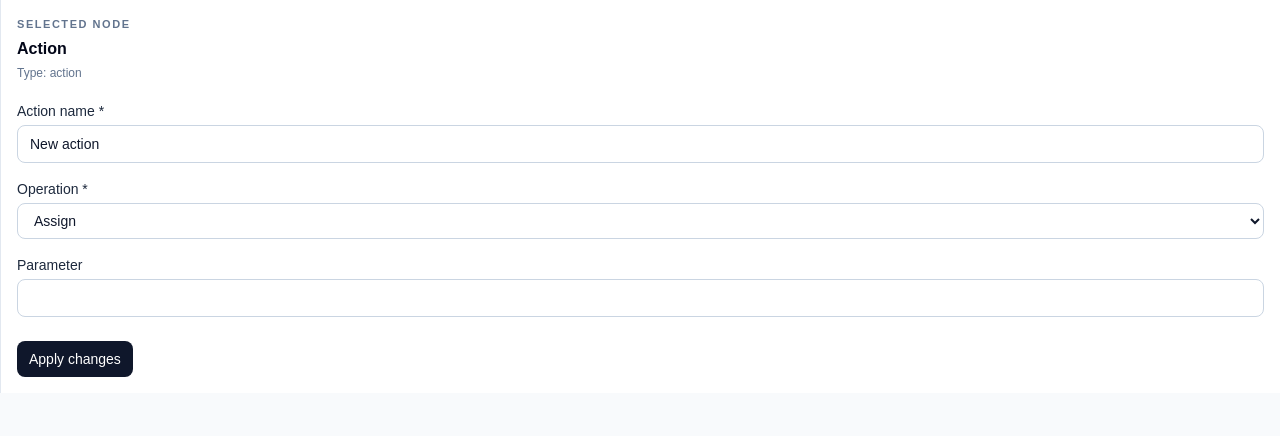
Test: NodeConfigurationPanel › shows validation errors
Clear the field labelled "Action name *": [640, 144] box [17,124,1264,162]
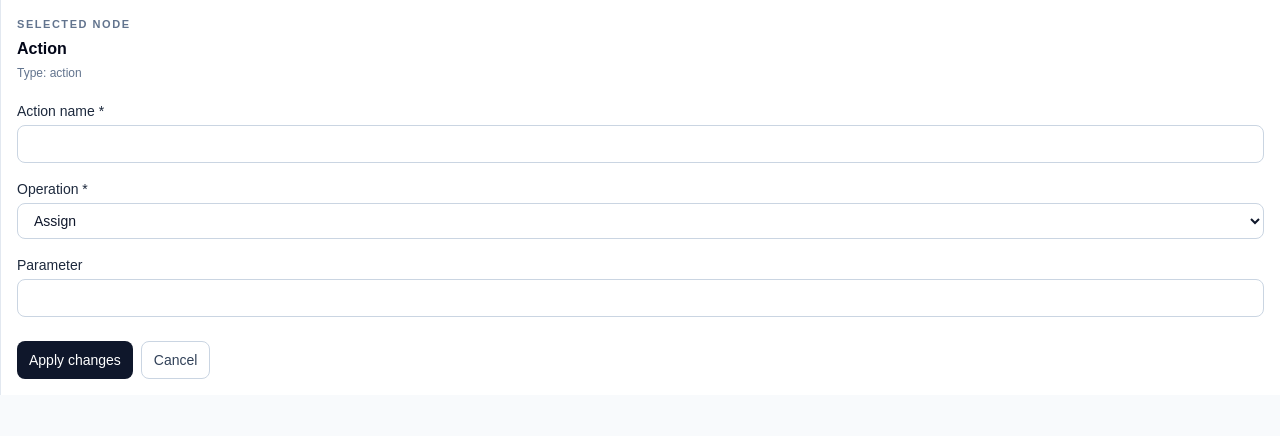
Click the button "Apply changes": [75, 360] box [17,340,133,378]
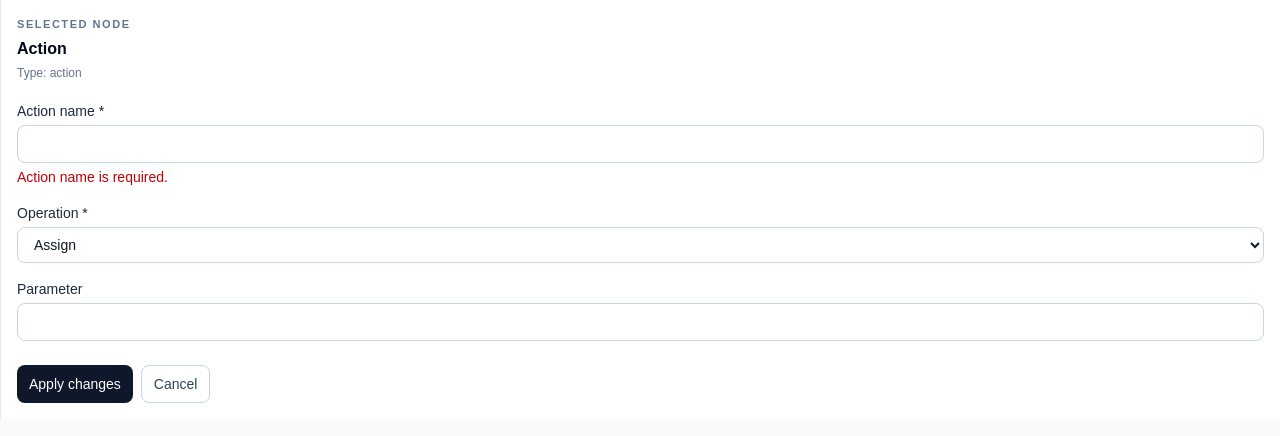
Result: the text "Action name is required." is shown at [17,168,168,184]
